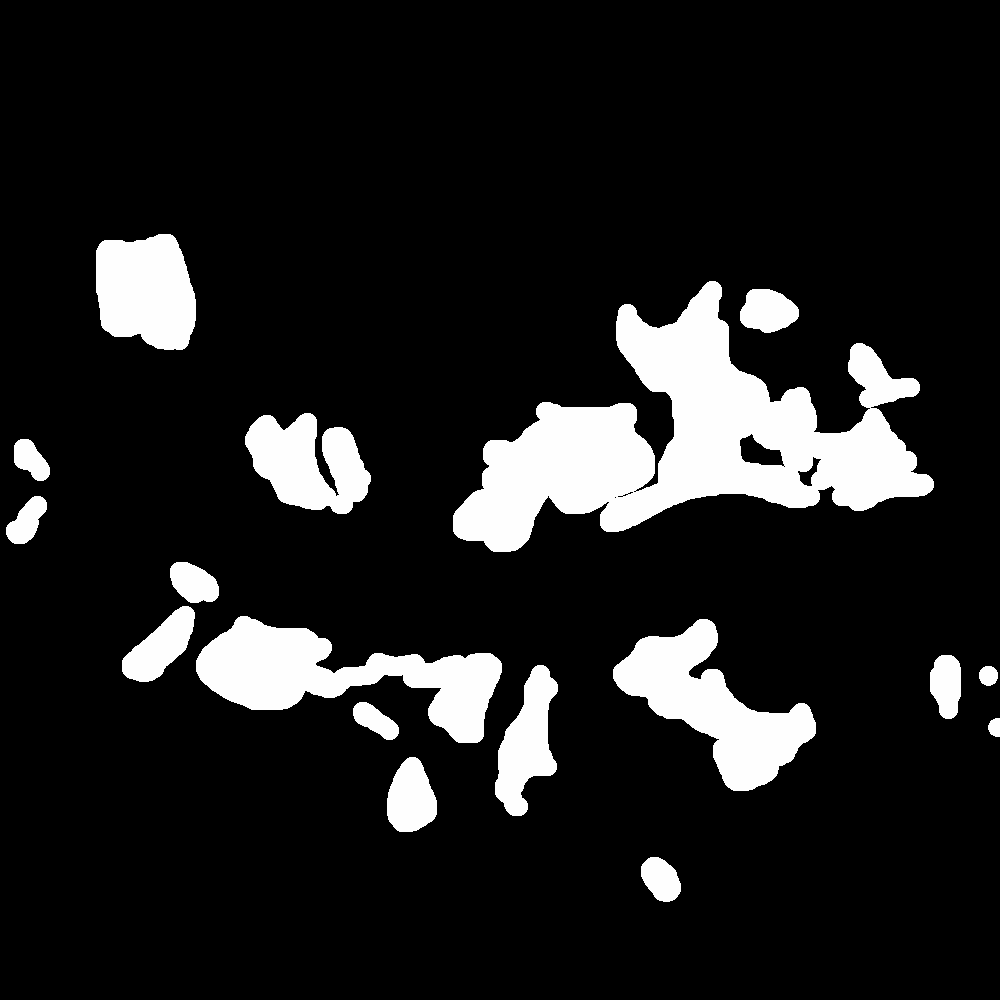illegal: (452, 279, 917, 550), (359, 648, 557, 827), (619, 625, 816, 789), (195, 614, 334, 718), (248, 414, 371, 512), (98, 231, 190, 354), (126, 608, 192, 680), (637, 850, 686, 902), (176, 562, 221, 606), (927, 662, 962, 718), (7, 509, 43, 542), (10, 450, 41, 475)
